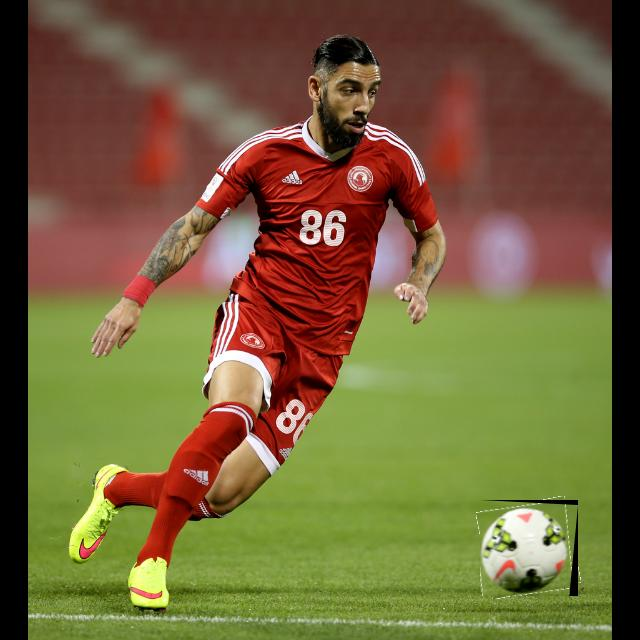Football: (480, 500, 578, 596)
